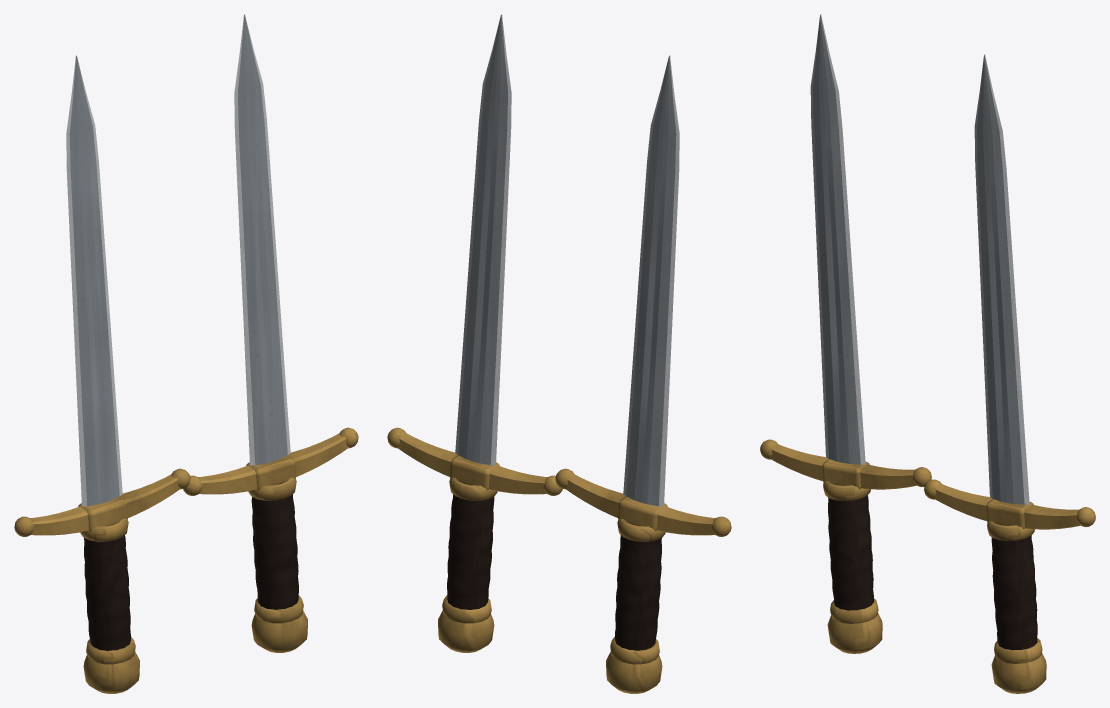
Rendered from twin-shortblade.lod1.glb.
3 views of the same model, side by side, from view 1: azimuth 30°, elevation 25°; view 2: azimuth 150°, elevation 25°; view 3: azimuth 330°, elevation 25° (orthographic). The views are drawn at different scales.
Parts seen in each view (by area): view 1: steel / forged blade steel, brass / polished brass furniture, leather / oiled leather wrap, edge / honed bright bevel; view 2: steel / forged blade steel, brass / polished brass furniture, leather / oiled leather wrap, edge / honed bright bevel; view 3: steel / forged blade steel, brass / polished brass furniture, leather / oiled leather wrap, edge / honed bright bevel.
Boxes of the visible parts, bbox=[...] form: steel / forged blade steel: bbox=[69, 14, 287, 506]; brass / polished brass furniture: bbox=[14, 427, 358, 693]; leather / oiled leather wrap: bbox=[84, 494, 298, 650]; edge / honed bright bevel: bbox=[66, 14, 290, 506]; steel / forged blade steel: bbox=[458, 14, 676, 506]; brass / polished brass furniture: bbox=[387, 427, 731, 693]; leather / oiled leather wrap: bbox=[447, 494, 661, 650]; edge / honed bright bevel: bbox=[455, 14, 679, 506]; steel / forged blade steel: bbox=[813, 14, 1024, 504]; brass / polished brass furniture: bbox=[760, 439, 1095, 693]; leather / oiled leather wrap: bbox=[828, 495, 1037, 650]; edge / honed bright bevel: bbox=[810, 14, 1029, 504].
Size of the model in its own units: 0.2846 by 0.5099 by 0.0412.
4 materials, 4 textured.
